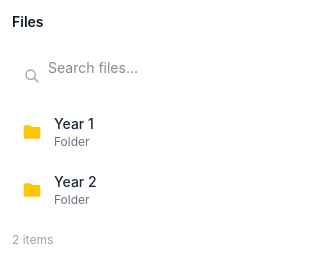
Test: DriveFileBrowser › shows the folder you are in, even when an earlier folder answers late
Click the text "Year 1" at {"x": 74, "y": 124}, box [54,115,94,132]
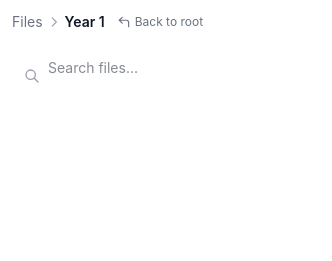
Note: Back to the root before Year 1 has loaded…
Click the button "Files" at {"x": 27, "y": 22}, box [12,12,43,32]
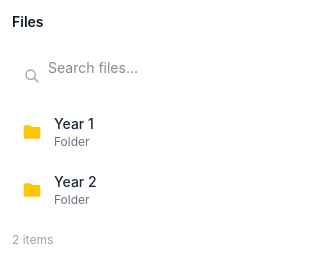
expect the text "Year 1" is shown: met, box [54,115,94,132]
expect the text "Year 2" is shown: met, box [54,173,97,190]
